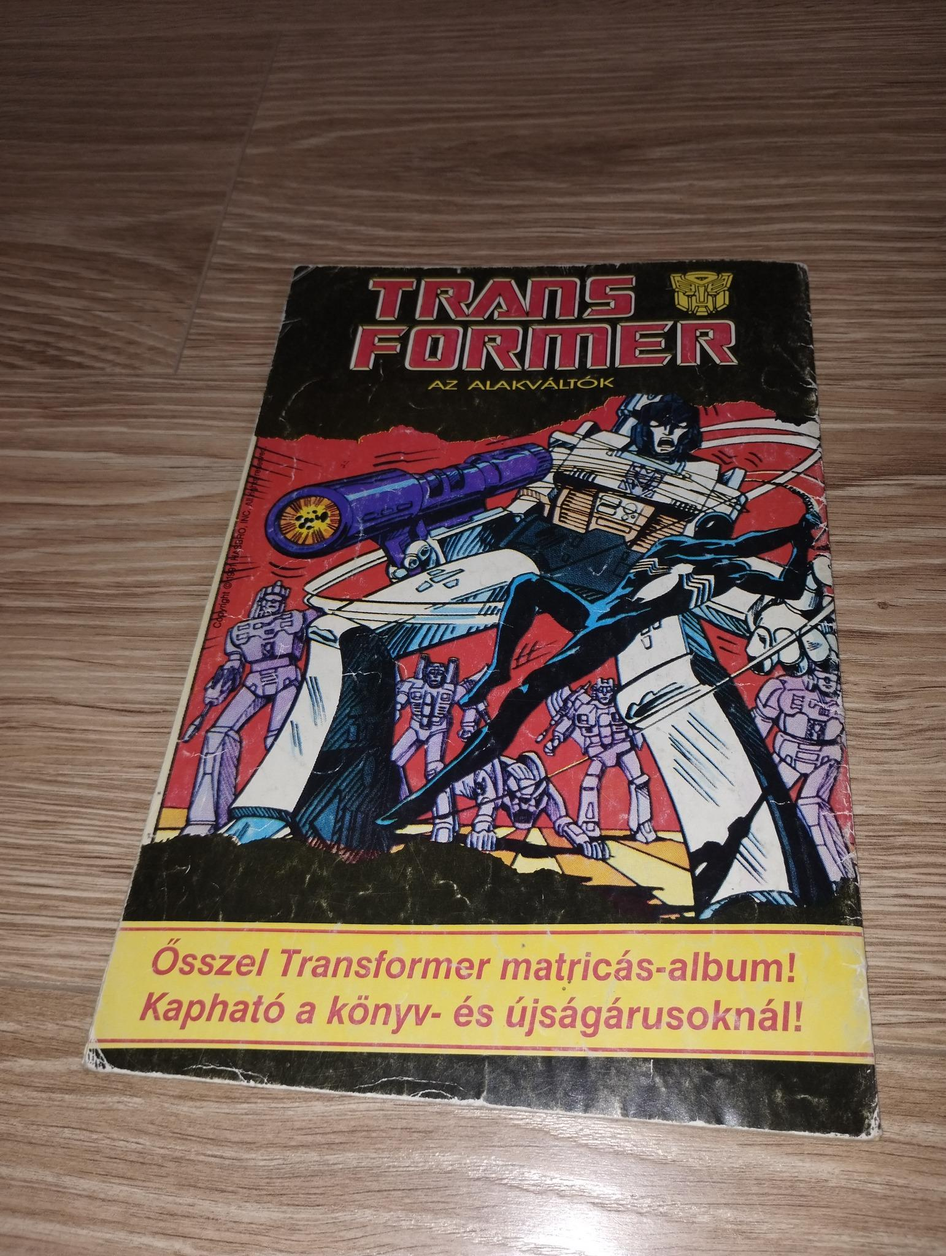comic: (87, 211, 946, 1136)
